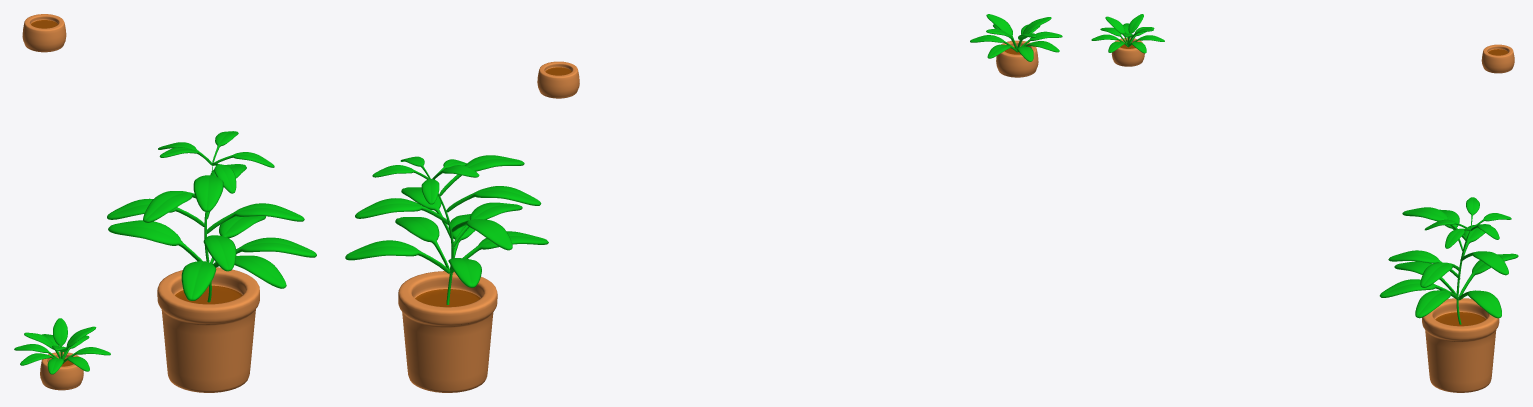
File: plants.glb
3 renders of one model, left to right at view 1: azimuth 30°, elevation 25°; view 2: azimuth 150°, elevation 25°; view 3: azimuth 270°, elevation 25°, orthographic. The views are drawn at different scales.
Parts seen in each view (by area): view 1: Leaves2, Circle.001, Leaves1, Circle.005, Circle.004, Leave; view 2: Circle.001, Leaves2, Leaves1, Circle.005, Circle.004; view 3: Leaves2, Circle.001, Leaves1, Circle.005, Circle.004.
Part boxes in pixels (x1=…): Leaves2: x1=107, y1=131, x2=316, y2=302; Circle.001: x1=157, y1=267, x2=259, y2=392; Leaves1: x1=14, y1=318, x2=110, y2=374; Circle.005: x1=22, y1=14, x2=66, y2=52; Circle.004: x1=40, y1=352, x2=83, y2=390; Leave: x1=214, y1=152, x2=274, y2=167; Circle.001: x1=398, y1=271, x2=497, y2=392; Leaves2: x1=345, y1=155, x2=548, y2=304; Leaves1: x1=970, y1=14, x2=1062, y2=61; Circle.005: x1=537, y1=61, x2=579, y2=98; Circle.004: x1=996, y1=40, x2=1038, y2=77; Leaves2: x1=1379, y1=197, x2=1518, y2=324; Circle.001: x1=1422, y1=298, x2=1499, y2=392; Leaves1: x1=1091, y1=14, x2=1164, y2=53; Circle.005: x1=1481, y1=44, x2=1514, y2=73; Circle.004: x1=1111, y1=38, x2=1144, y2=66.
Size of the model in its own units: 3.87 by 2.79 by 3.88.
